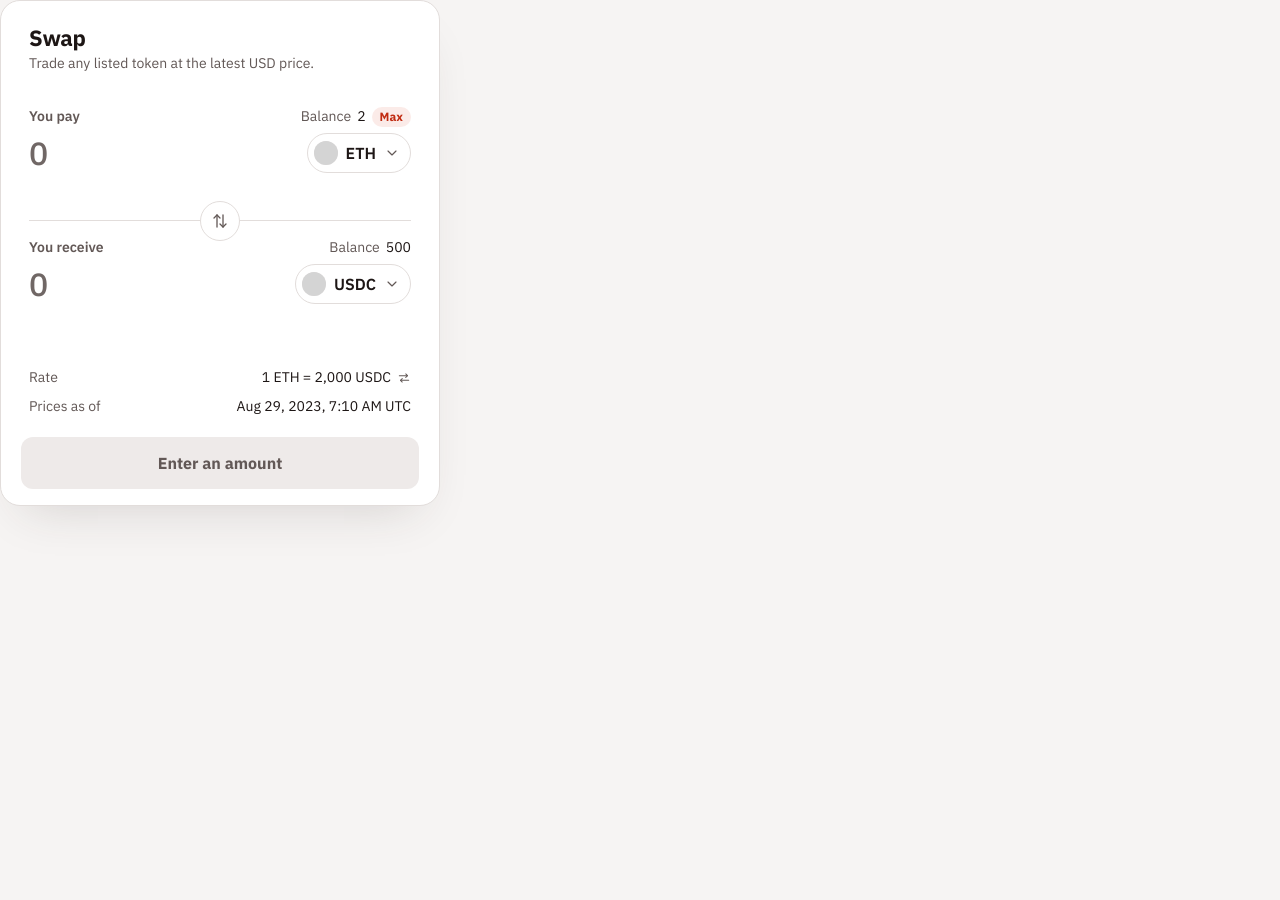
Test case: SwapForm › closes the picker with Escape and shows an empty state for no matches
Click the button with aria-label "You pay: ETH. Change token": (359, 153) [307,133,411,173]
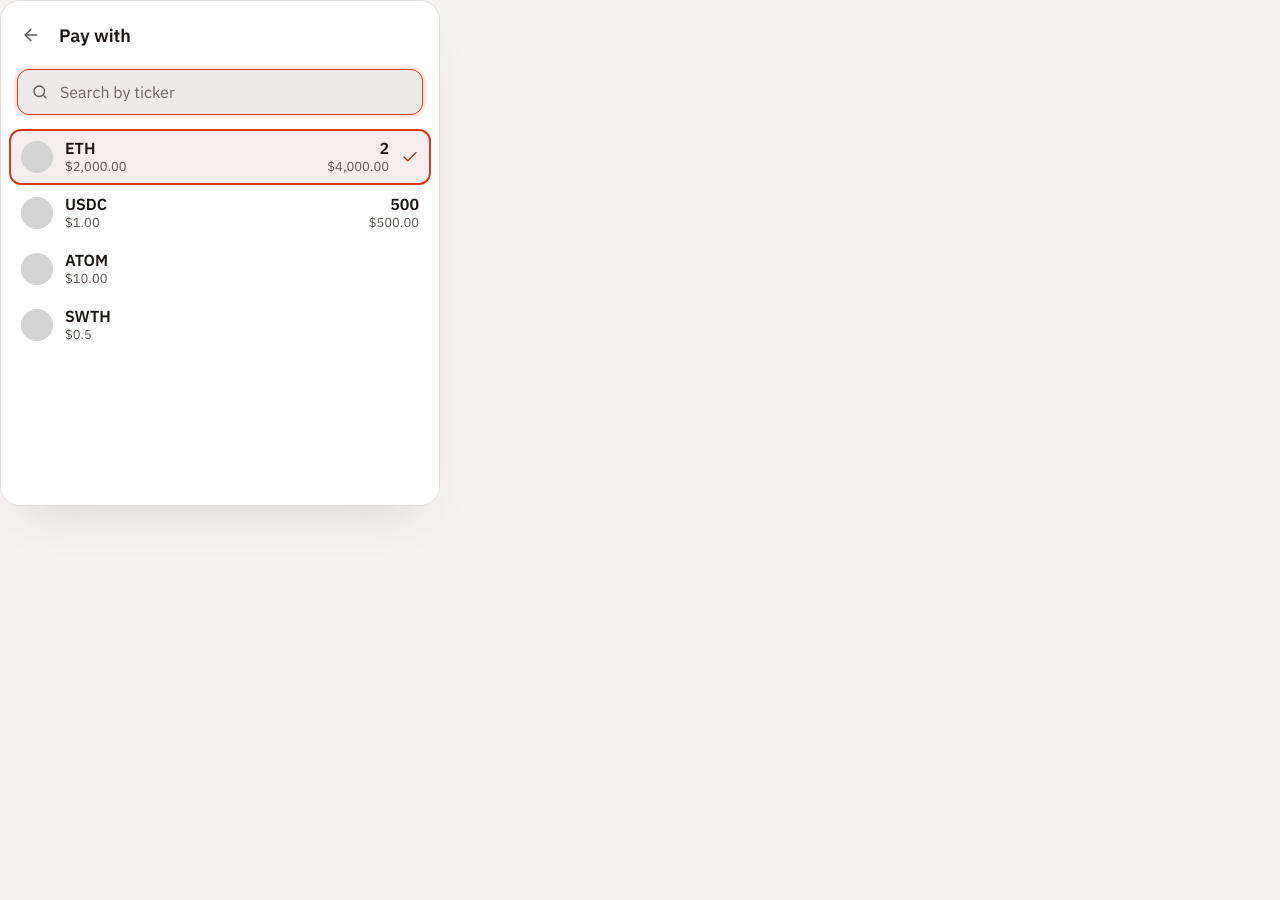
Type keys "doge"
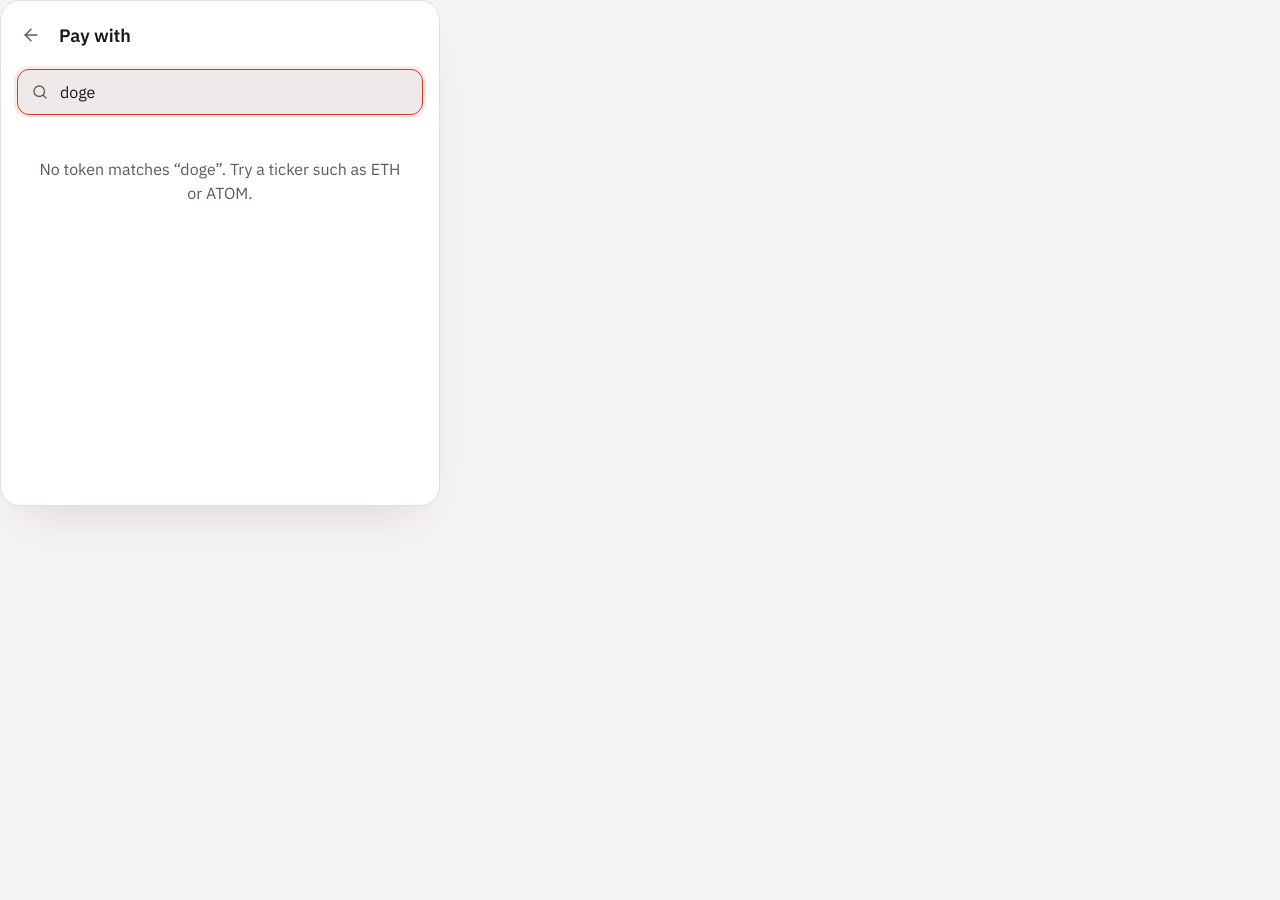
Expected: the message shows "No token matches “doge”", [40,159,400,203]
Press Escape
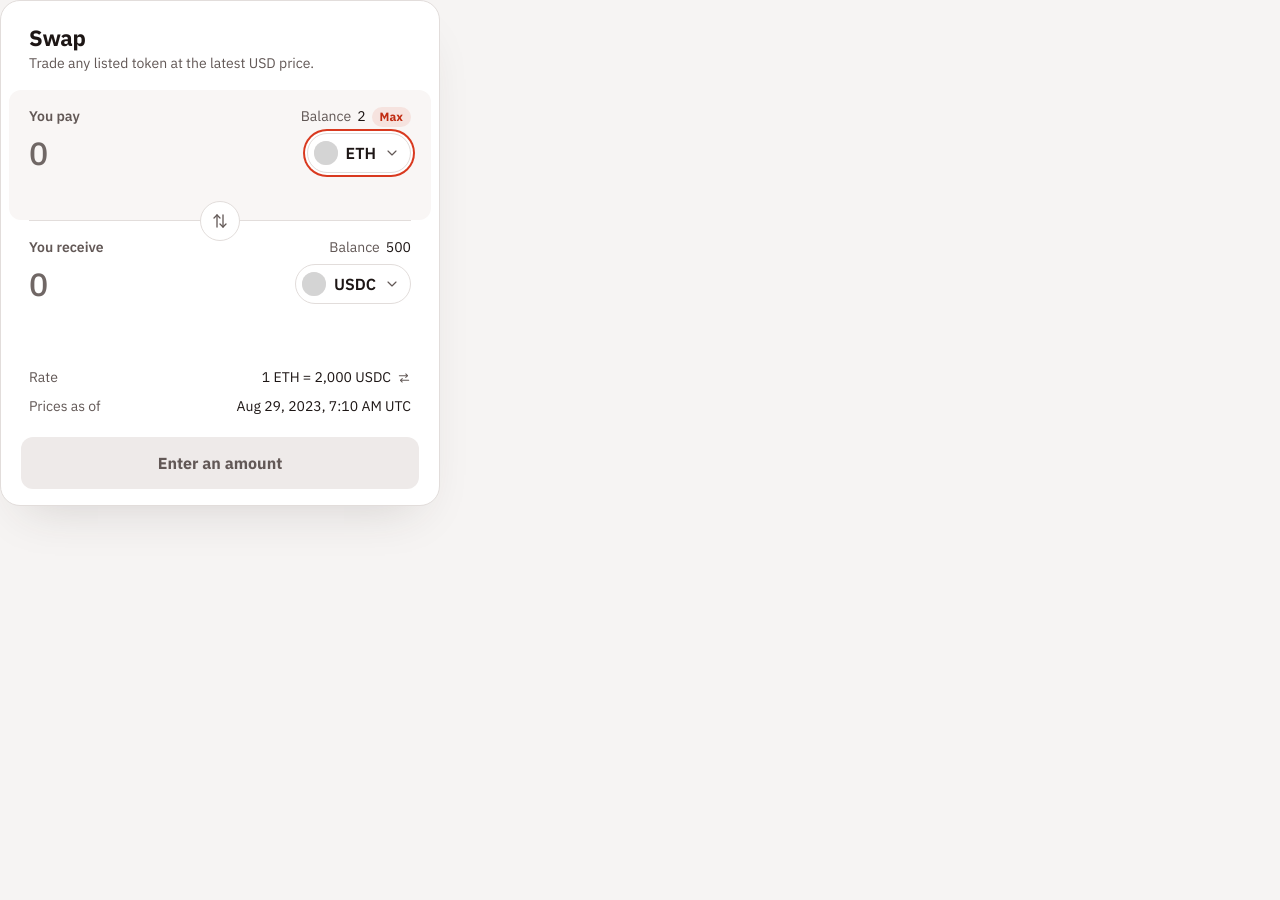
Expected: the dialog is gone
